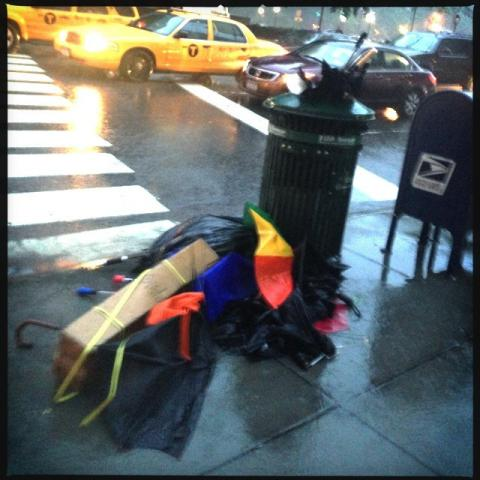car: (54, 7, 291, 84), (236, 36, 437, 119), (7, 2, 138, 55), (385, 32, 473, 91), (271, 29, 351, 51)
